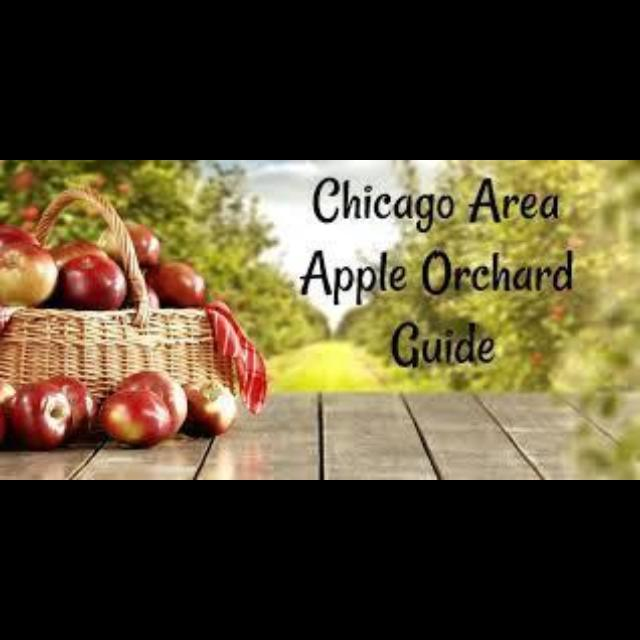apple: (4, 381, 68, 448), (99, 389, 169, 446), (54, 255, 125, 309), (0, 243, 56, 305), (44, 373, 95, 438), (183, 381, 235, 434), (145, 261, 203, 305), (125, 222, 159, 265), (99, 230, 119, 261)
